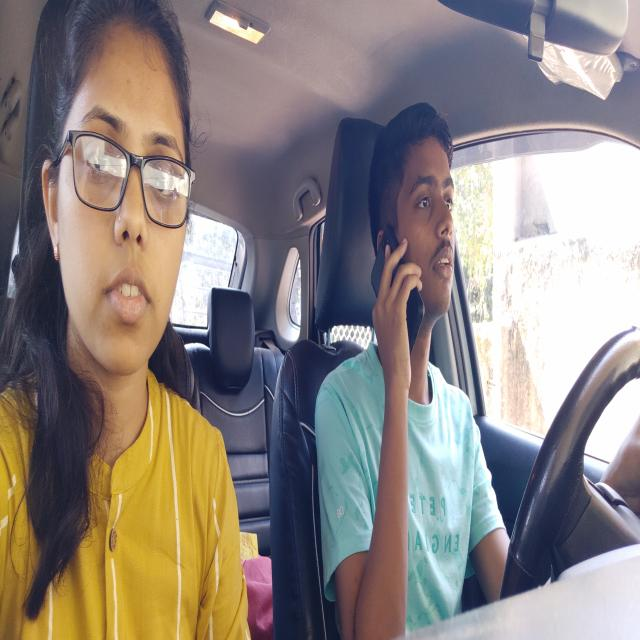mobile: (363, 222, 429, 354)
person: (33, 0, 200, 394), (364, 103, 466, 336)
